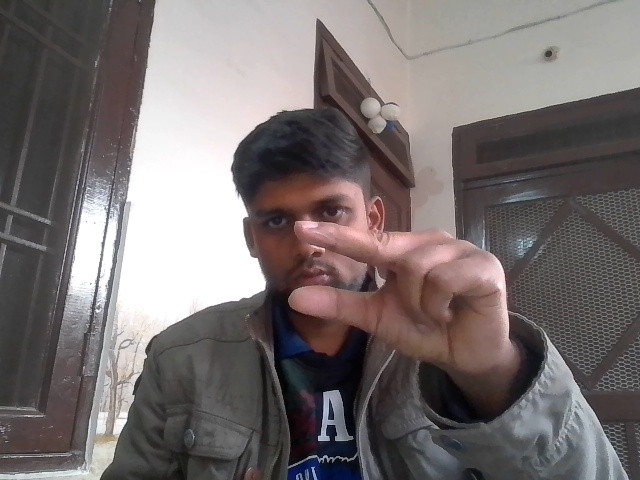No: (280, 208, 509, 364)
